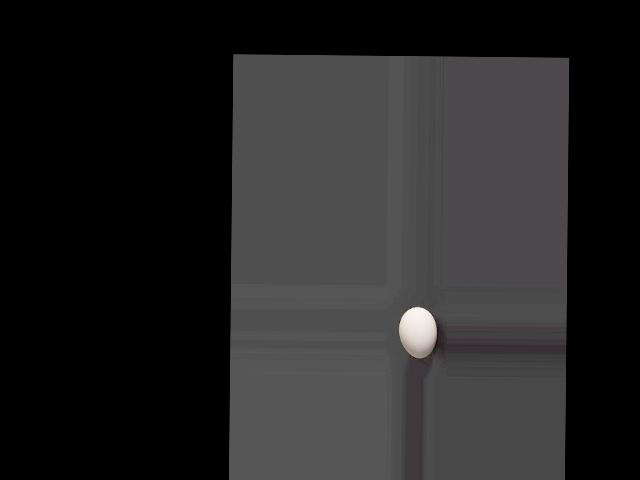egg: (399, 306, 437, 358)
